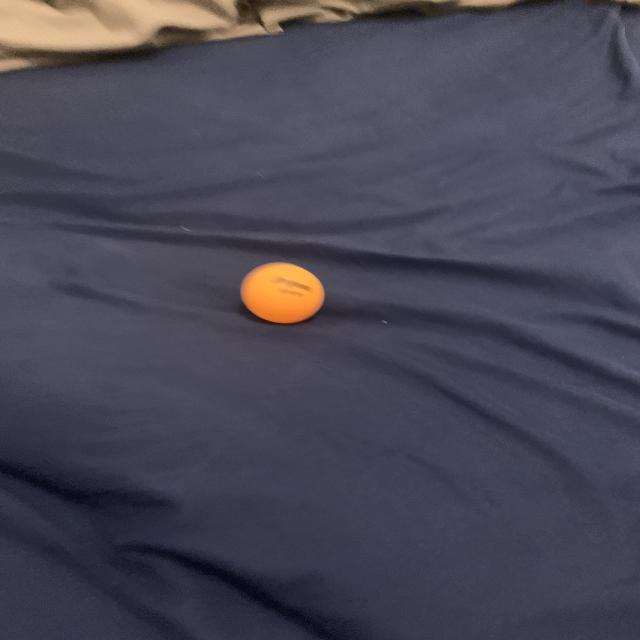ping-pong-ball: (234, 255, 328, 329)
